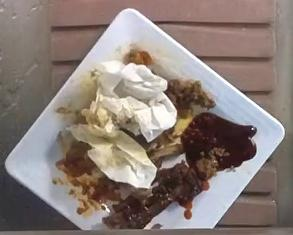ribs: (103, 161, 202, 229)
